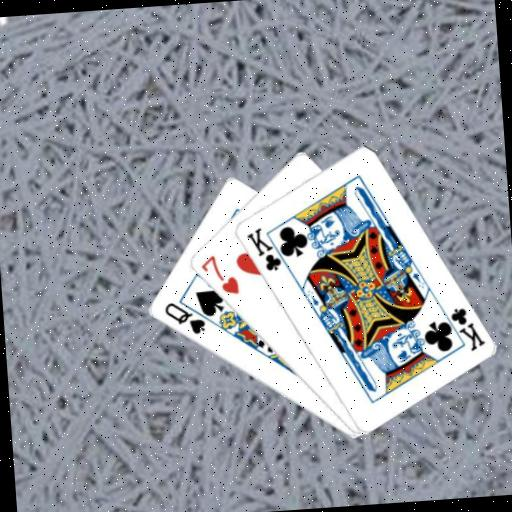7H: (196, 250, 241, 298)
KC: (243, 222, 292, 274), (438, 303, 487, 355)
QS: (160, 296, 208, 338)
